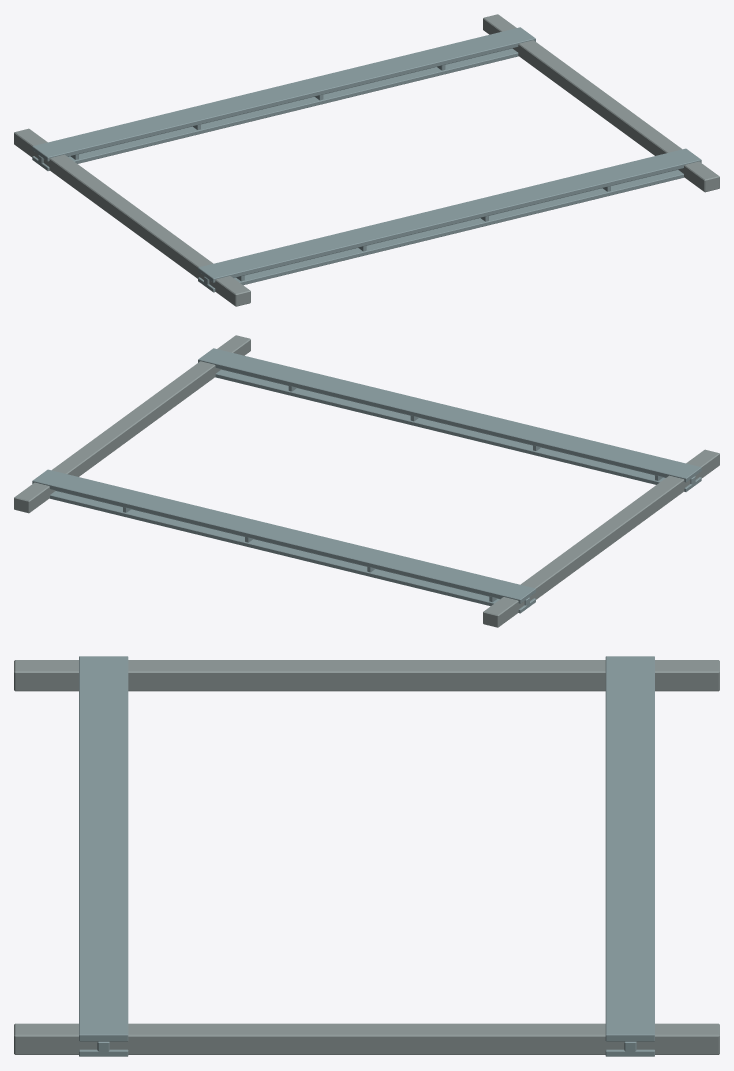
The model's file is RoadPlan_DeckStructure_L8.glb.
3 views of the same model, one above another, from view 1: azimuth 30°, elevation 25°; view 2: azimuth 150°, elevation 25°; view 3: azimuth 270°, elevation 25° (orthographic). The views are drawn at different scales.
Parts seen in each view (by area): view 1: RoadPlan_DeckStructure_L8_Girder_-1, RoadPlan_DeckStructure_L8_Girder_1, RoadPlan_DeckStructure_L8_Crosshead_-1, RoadPlan_DeckStructure_L8_Crosshead_1; view 2: RoadPlan_DeckStructure_L8_Girder_1, RoadPlan_DeckStructure_L8_Girder_-1, RoadPlan_DeckStructure_L8_Crosshead_-1, RoadPlan_DeckStructure_L8_Crosshead_1; view 3: RoadPlan_DeckStructure_L8_Crosshead_1, RoadPlan_DeckStructure_L8_Girder_-1, RoadPlan_DeckStructure_L8_Girder_1, RoadPlan_DeckStructure_L8_Crosshead_-1.
Part boxes in pixels (x1,y1,x2,y2): RoadPlan_DeckStructure_L8_Girder_-1: [198, 148, 701, 292]; RoadPlan_DeckStructure_L8_Girder_1: [32, 27, 535, 170]; RoadPlan_DeckStructure_L8_Crosshead_-1: [14, 128, 250, 306]; RoadPlan_DeckStructure_L8_Crosshead_1: [483, 14, 719, 192]; RoadPlan_DeckStructure_L8_Girder_1: [32, 469, 535, 613]; RoadPlan_DeckStructure_L8_Girder_-1: [198, 348, 701, 491]; RoadPlan_DeckStructure_L8_Crosshead_-1: [483, 449, 719, 627]; RoadPlan_DeckStructure_L8_Crosshead_1: [14, 335, 250, 513]; RoadPlan_DeckStructure_L8_Crosshead_1: [14, 1023, 719, 1054]; RoadPlan_DeckStructure_L8_Girder_-1: [79, 656, 128, 1056]; RoadPlan_DeckStructure_L8_Girder_1: [605, 656, 654, 1056]; RoadPlan_DeckStructure_L8_Crosshead_-1: [14, 660, 719, 691].
Size of the model in its own units: 8 by 0.22 by 6.3.
